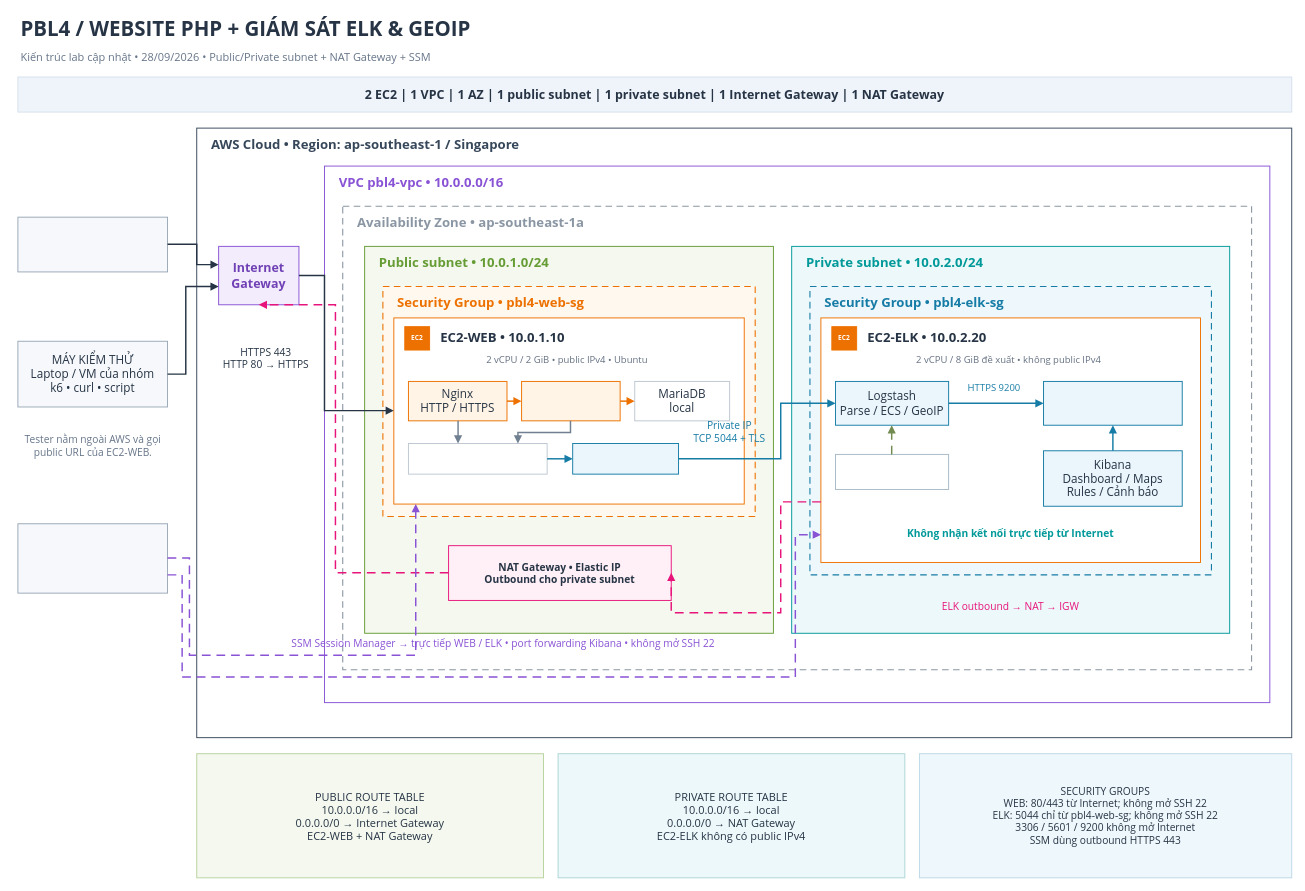
Image size: 1305x891. Some labels were removed from this diagram. Each missing label, with the box of its shape:
Access / error / auth: (408, 443, 547, 474)
Elasticsearch Lưu log / truy vấn: (1043, 381, 1182, 425)
Filebeat: (572, 443, 679, 474)
GeoLite2 .mmdb Tra cứu tại máy: (835, 454, 949, 490)
NGƯỜI DÙNG Trình duyệt web: (17, 216, 168, 272)
NHÓM / GIẢNG VIÊN AWS Console / CLI SSM Session Manager: (17, 523, 168, 593)
PHP-FPM Login / Shop: (521, 381, 620, 421)
